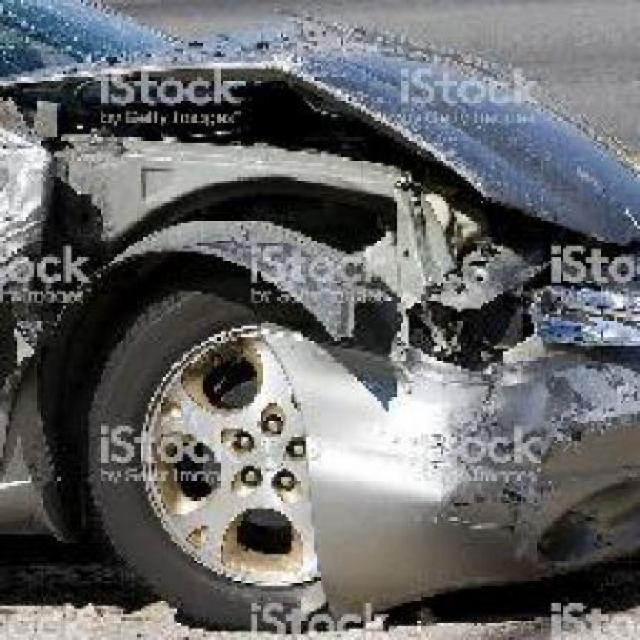damaged-hood: (35, 35, 640, 248)
